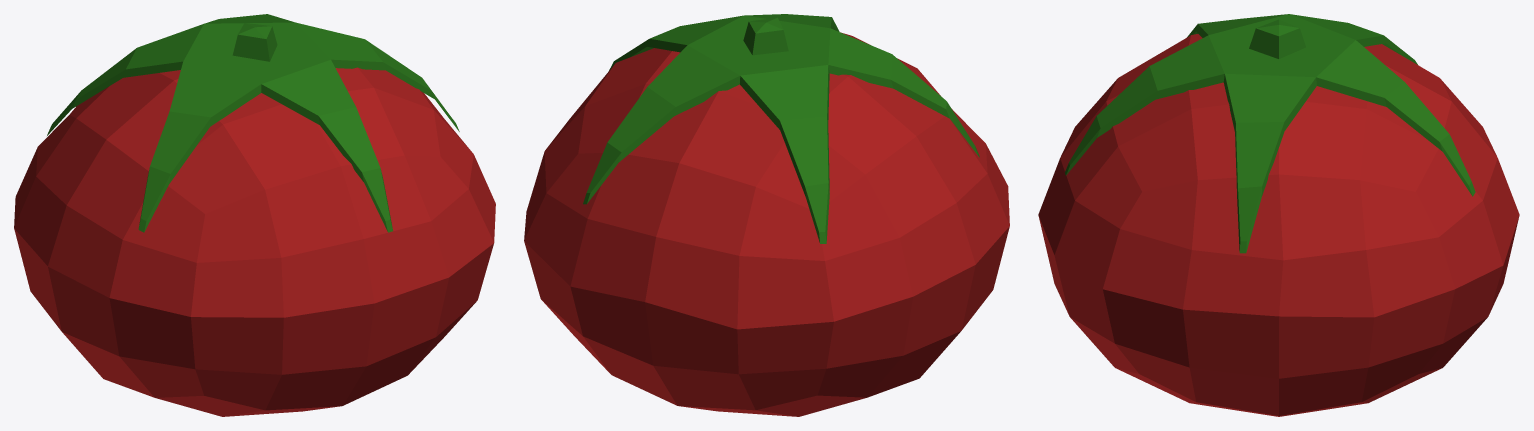
Rendered from Tomato.obj.
3 renders of one model, left to right at view 1: azimuth 30°, elevation 25°; view 2: azimuth 150°, elevation 25°; view 3: azimuth 270°, elevation 25°, orthographic.
Parts seen in each view (by area): view 1: Tomato_DarkRed, Tomato_DarkGreen; view 2: Tomato_DarkRed, Tomato_DarkGreen; view 3: Tomato_DarkRed, Tomato_DarkGreen.
Part boxes in pixels (box(x1,y1,x2,y2)): Tomato_DarkRed: box(14, 67, 495, 416); Tomato_DarkGreen: box(47, 14, 459, 232); Tomato_DarkRed: box(524, 32, 1009, 416); Tomato_DarkGreen: box(583, 14, 979, 243); Tomato_DarkRed: box(1038, 34, 1519, 416); Tomato_DarkGreen: box(1065, 14, 1475, 253).
Size of the model in its own units: 0.7525 by 0.6264 by 0.7525.
